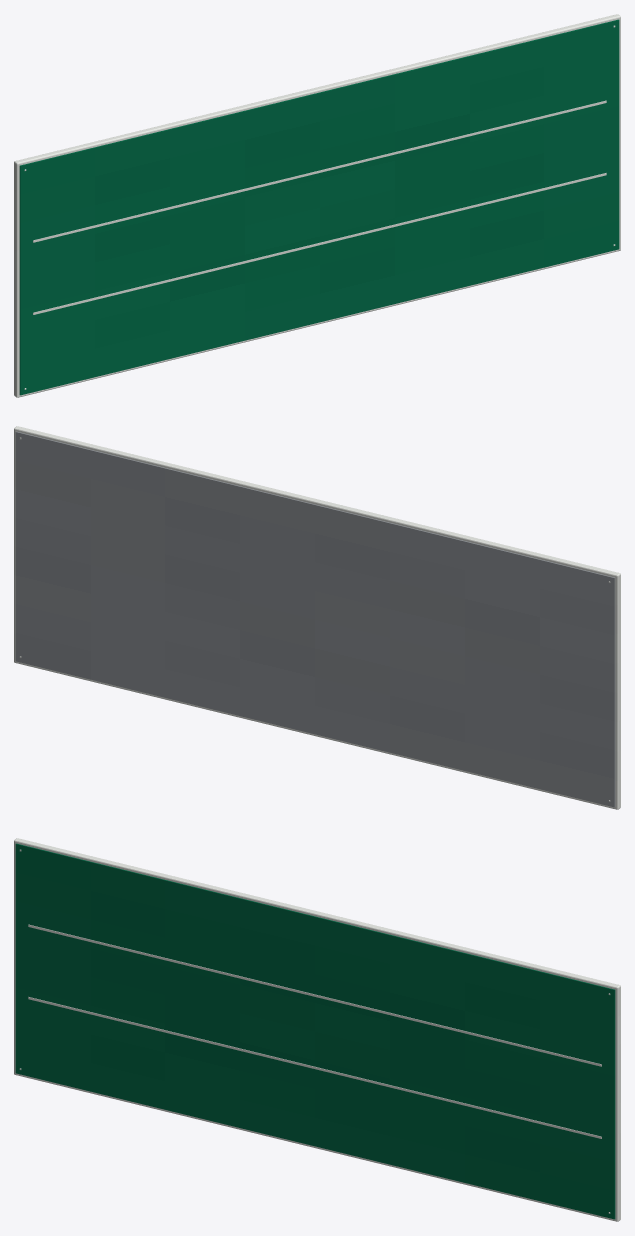
File: gantry-distance.glb
The picture shows the model from 3 angles, top to bottom: view 1: azimuth 30°, elevation 25°; view 2: azimuth 150°, elevation 25°; view 3: azimuth 330°, elevation 25°; orthographic projection.
Parts seen in each view (by area): view 1: BlankFaceFront, BrassBody, RowRule2, RowRule1; view 2: BlankFaceBack, BrassBody; view 3: BlankFaceFront, BrassBody, RowRule2, RowRule1.
Boxes of the visible parts, <box> form: BlankFaceFront: <box>19,19,619,395</box>; BrassBody: <box>14,14,620,397</box>; RowRule2: <box>33,173,606,314</box>; RowRule1: <box>33,100,606,242</box>; BlankFaceBack: <box>15,431,615,807</box>; BrassBody: <box>14,426,620,809</box>; BlankFaceFront: <box>15,843,615,1219</box>; BrassBody: <box>14,838,620,1221</box>; RowRule2: <box>28,997,601,1138</box>; RowRule1: <box>28,924,601,1066</box>.
Bounding box in the file's own units: 7 × 2.6 × 0.1035.
3 materials, 3 textured.
